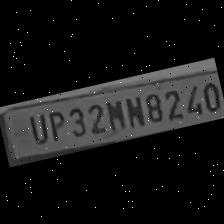0: (198, 76, 224, 113)
2: (158, 83, 185, 122), (82, 98, 108, 136)
3: (61, 101, 88, 138)
4: (176, 80, 204, 118)
8: (139, 89, 165, 126)
M: (102, 94, 128, 132)
N: (120, 91, 146, 129)
P: (42, 105, 68, 143)
U: (23, 108, 50, 146)
